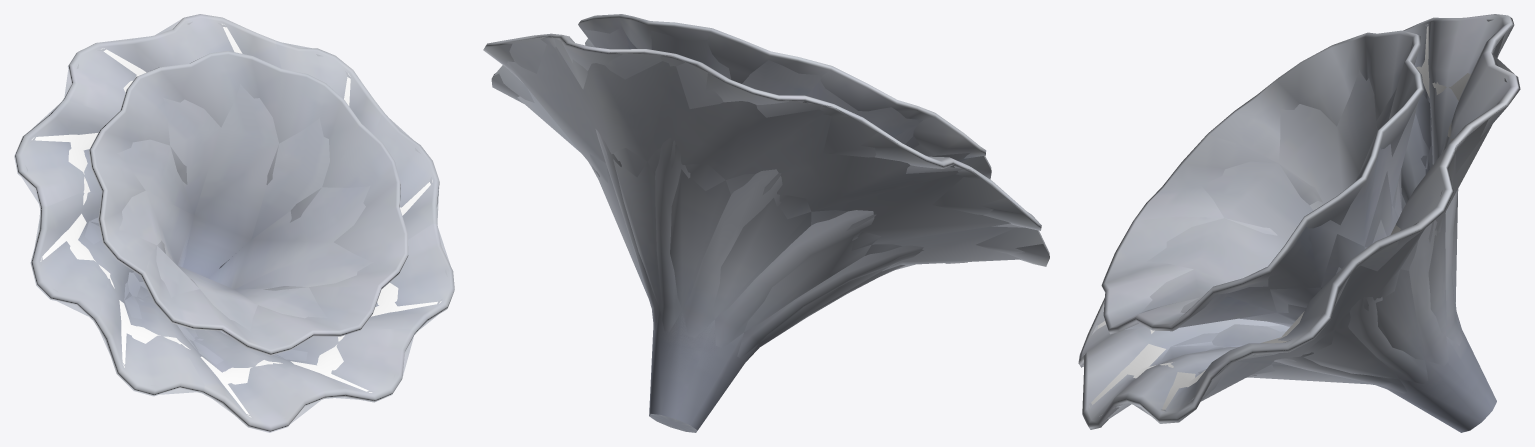
Rendered from objects_un_t04pottery03.gltf.
3 views of the same model, side by side, from view 1: azimuth 30°, elevation 25°; view 2: azimuth 150°, elevation 25°; view 3: azimuth 270°, elevation 25° (orthographic). The views are drawn at different scales.
Parts seen in each view (by area): view 1: um_objects_un_t04pottery03_model_lod0Shape:objects_un_t04pot (×2), um_objects_un_t04pottery03_model_lod2Shape:objects_un_t04pot, um_objects_un_t04pottery03_model_lod1Shape:objects_un_t04pot; view 2: um_objects_un_t04pottery03_model_lod2Shape:objects_un_t04pot, um_objects_un_t04pottery03_model_lod0Shape:objects_un_t04pot, um_objects_un_t04pottery03_model_lod1Shape:objects_un_t04pot; view 3: um_objects_un_t04pottery03_model_lod0Shape:objects_un_t04pot (×2), um_objects_un_t04pottery03_model_lod2Shape:objects_un_t04pot, um_objects_un_t04pottery03_model_lod1Shape:objects_un_t04pot.
Part boxes in pixels (box(x1,y1,x2,y2)): um_objects_un_t04pottery03_model_lod0Shape:objects_un_t04pot (×2): box(14, 14, 454, 432); um_objects_un_t04pottery03_model_lod2Shape:objects_un_t04pot: box(25, 21, 447, 419); um_objects_un_t04pottery03_model_lod1Shape:objects_un_t04pot: box(19, 19, 450, 424); um_objects_un_t04pottery03_model_lod2Shape:objects_un_t04pot: box(507, 27, 1020, 420); um_objects_un_t04pottery03_model_lod0Shape:objects_un_t04pot: box(483, 14, 1049, 432); um_objects_un_t04pottery03_model_lod1Shape:objects_un_t04pot: box(493, 36, 1048, 432); um_objects_un_t04pottery03_model_lod0Shape:objects_un_t04pot (×2): box(1078, 14, 1520, 429); um_objects_un_t04pottery03_model_lod2Shape:objects_un_t04pot: box(1084, 19, 1506, 427); um_objects_un_t04pottery03_model_lod1Shape:objects_un_t04pot: box(1080, 30, 1514, 432).
Size of the model in its own units: 3.51 by 2.47 by 2.63.
2 materials, 1 textured.
